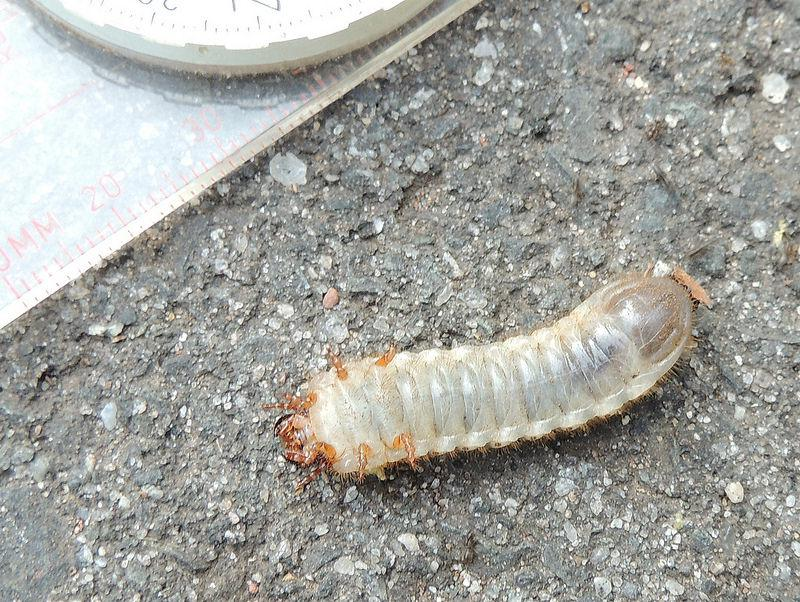grub: (283, 270, 700, 473)
